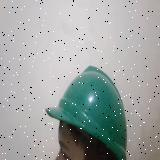Helmet: (45, 64, 128, 160)
